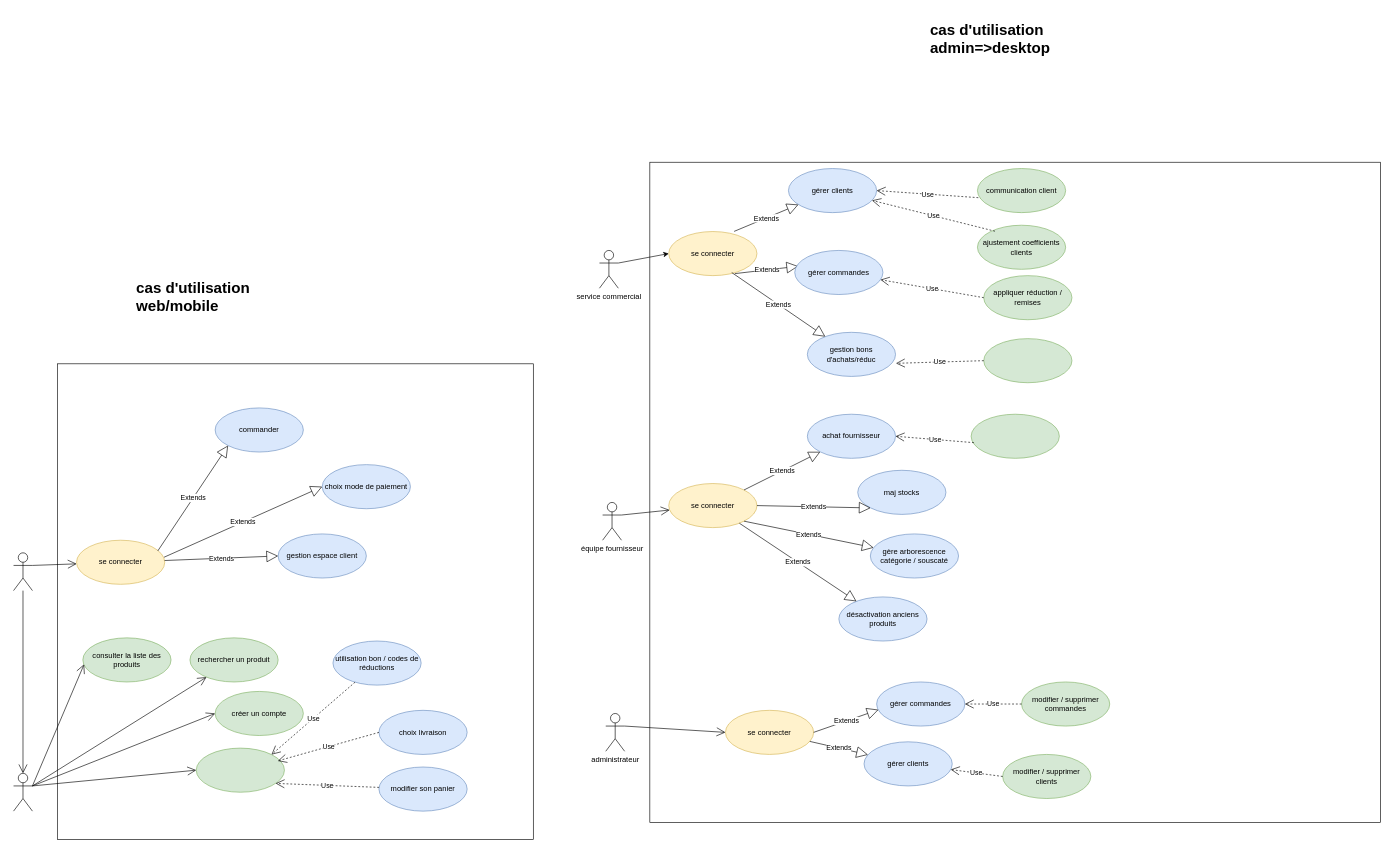
This 1392x851 diagram has some shape labels left out. The shapes that lost their labels are listed below. From the top down, each one's centre as x and y in pixels, then its label:
(x=1027, y=360): ajouter/modifier/ supprimer bons d'achats / de réduction
(x=1015, y=436): validation nouveaux produits
(x=22, y=571): client
(x=240, y=769): alimenter son panier
(x=22, y=792): visiteur
